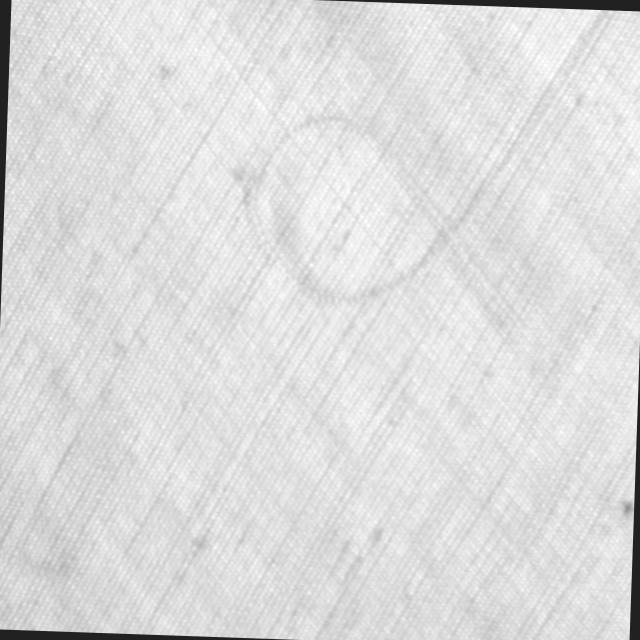objects: (243, 0, 615, 333)
